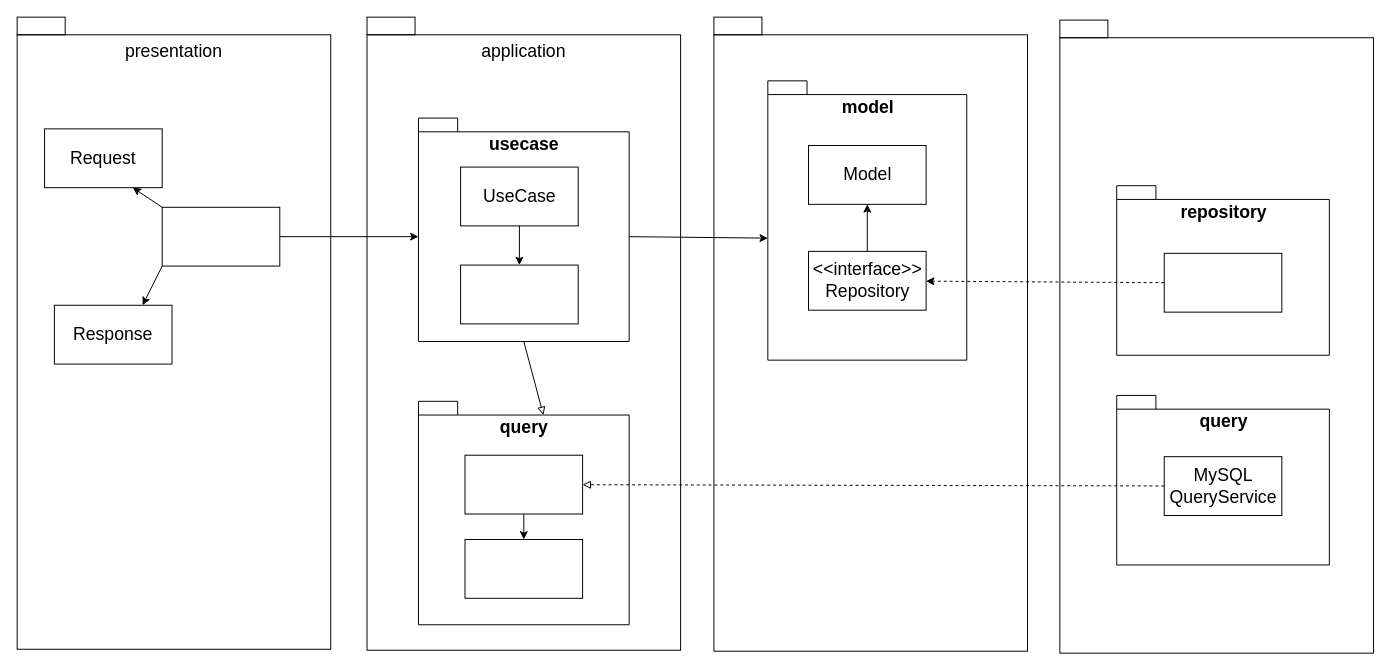
Image size: 1391x670. Some labels were removed from this diagram. The box of each missing label's shape, as (x1, y1, x2, y2) in pixels:
<<interface>> QueryService: (464, 454, 583, 514)
domain: (713, 34, 1028, 651)
infrastructure (dataaccess): (1059, 37, 1373, 653)
MySQL Repository: (1163, 252, 1282, 312)
Output: (460, 264, 578, 324)
QueryModel: (464, 539, 583, 598)
Router: (161, 206, 280, 266)
